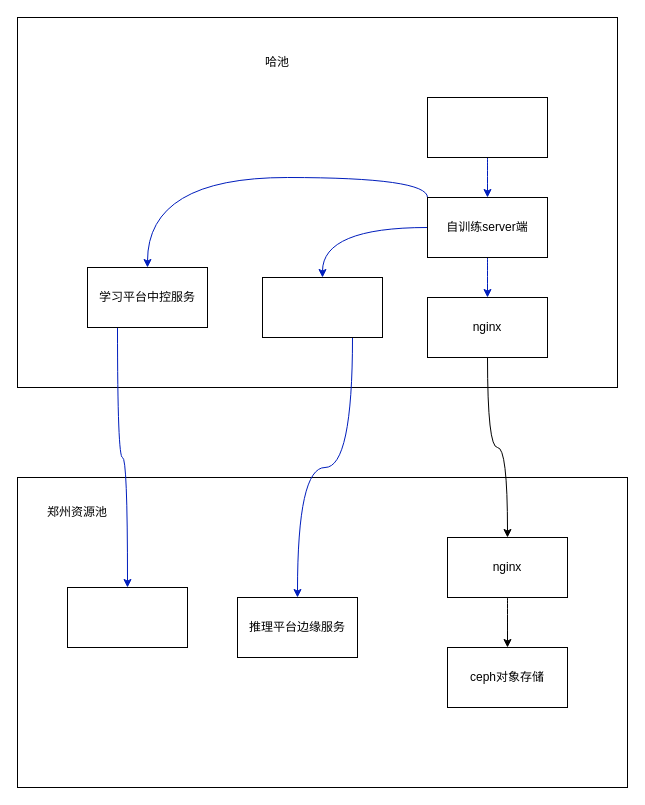
The diagram is 645 pixels wide and 805 high, and some of its shapes have lost their labels. Each missing label, with the box of its shape:
学习平台边缘服务: (66, 586, 188, 648)
推理平台中控服务: (262, 276, 382, 338)
自训练web服务: (426, 96, 548, 158)
